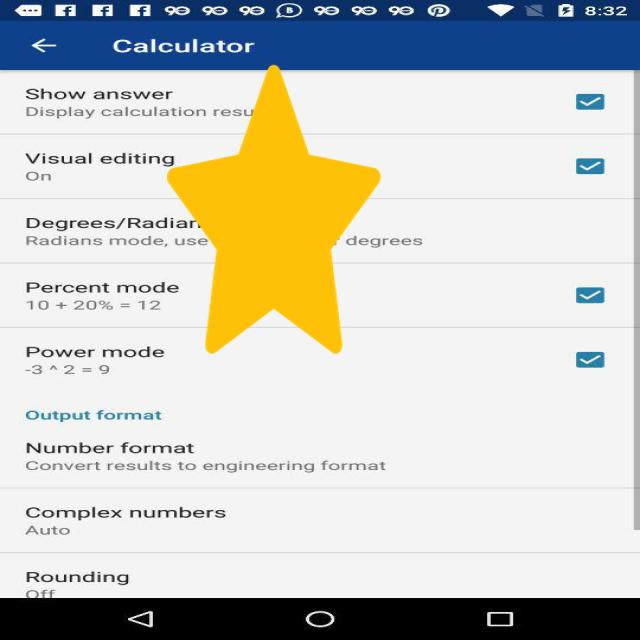forced continuity: (167, 65, 381, 354)
